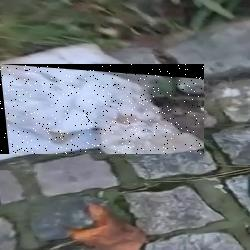restaffald: (0, 64, 204, 154)
